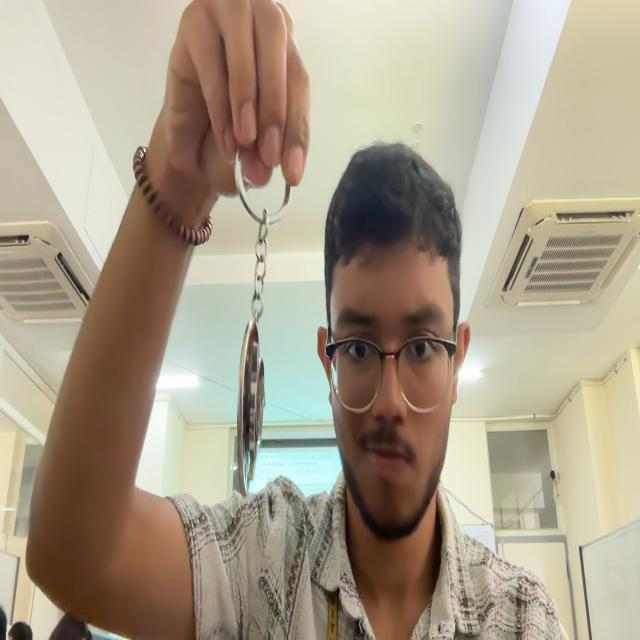dangerous: (234, 155, 290, 495)
